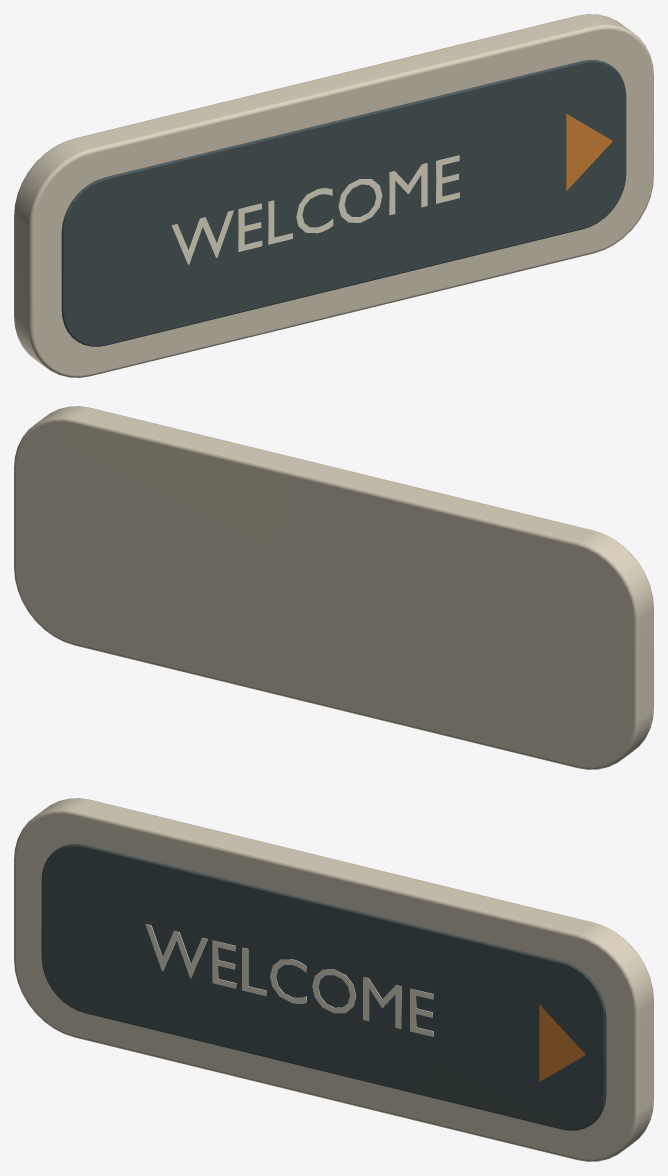
Rendered from wayfinding-panel.glb.
3 views of the same model, one above another, from view 1: azimuth 30°, elevation 25°; view 2: azimuth 150°, elevation 25°; view 3: azimuth 330°, elevation 25° (orthographic).
Parts seen in each view (by area): view 1: wayfinding-panel / 06 • dark anodized frame, wayfinding-panel / 01 • warm porcelain paint, wayfinding-panel / 12 • warm white graphic, wayfinding-panel / 03 • ochre enamel; view 2: wayfinding-panel / 01 • warm porcelain paint; view 3: wayfinding-panel / 06 • dark anodized frame, wayfinding-panel / 01 • warm porcelain paint, wayfinding-panel / 12 • warm white graphic, wayfinding-panel / 03 • ochre enamel.
Boxes of the visible parts, <box> form: wayfinding-panel / 06 • dark anodized frame: <box>61,60,626,346</box>; wayfinding-panel / 01 • warm porcelain paint: <box>14,14,653,377</box>; wayfinding-panel / 12 • warm white graphic: <box>171,155,459,264</box>; wayfinding-panel / 03 • ochre enamel: <box>566,113,612,190</box>; wayfinding-panel / 01 • warm porcelain paint: <box>14,406,653,769</box>; wayfinding-panel / 06 • dark anodized frame: <box>41,844,606,1130</box>; wayfinding-panel / 01 • warm porcelain paint: <box>14,798,653,1161</box>; wayfinding-panel / 12 • warm white graphic: <box>145,924,433,1036</box>; wayfinding-panel / 03 • ochre enamel: <box>539,1005,585,1081</box>.
Size of the model in its own units: 0.72 by 0.25 by 0.045.
